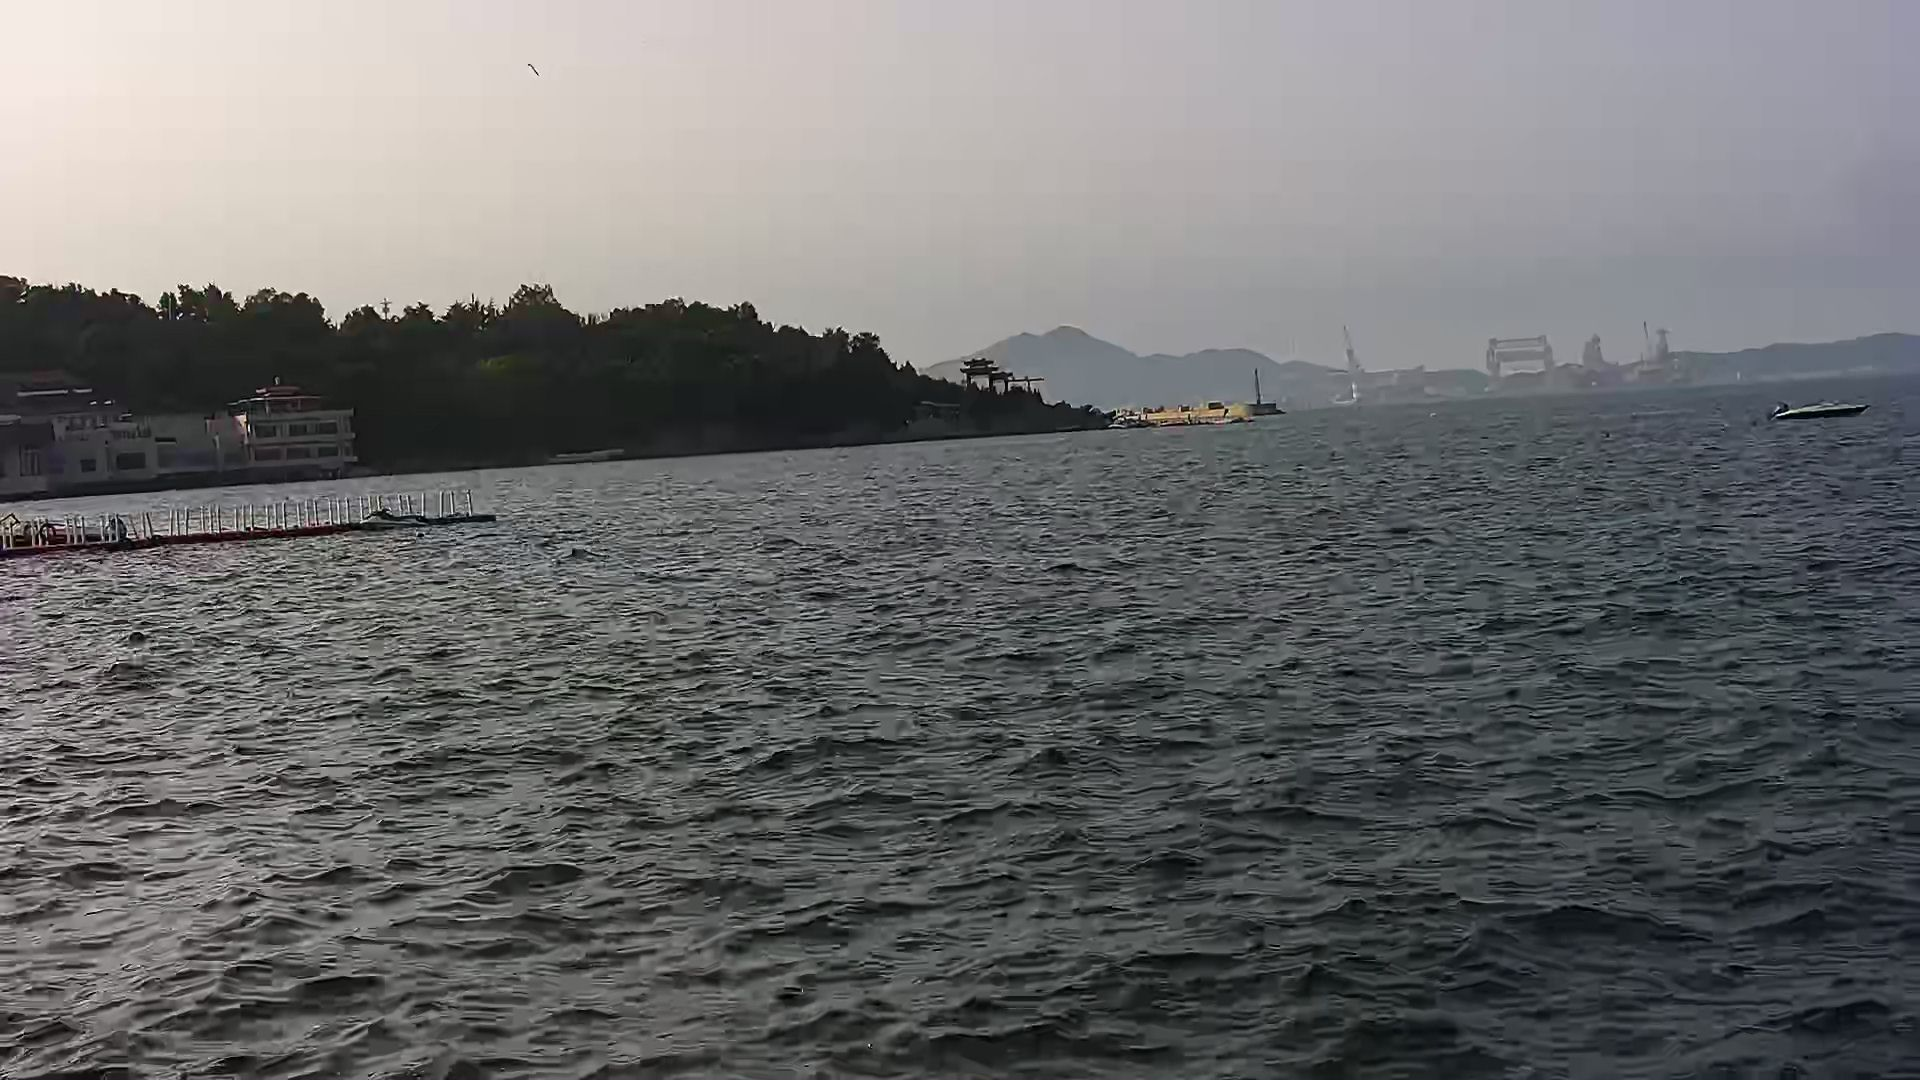boat: (1768, 384, 1874, 435)
harbor: (1122, 392, 1265, 436)
platform: (7, 460, 504, 563)
